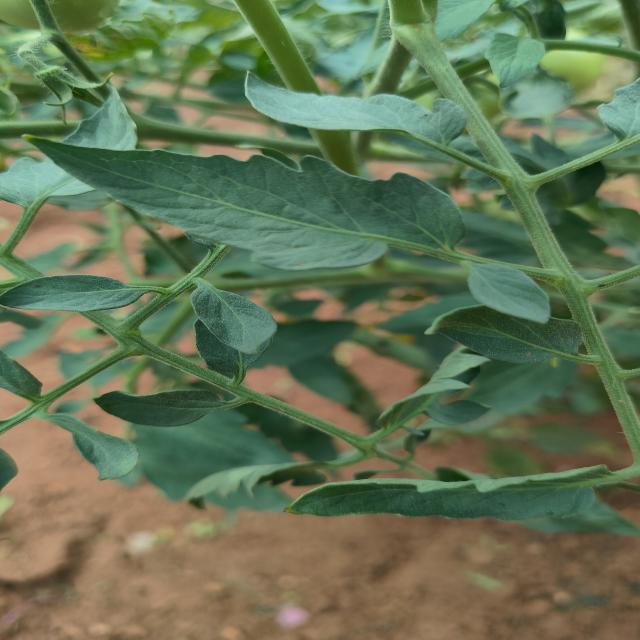tomato_healthy: (37, 138, 465, 268), (286, 467, 627, 536), (6, 278, 278, 354), (241, 74, 443, 130)
